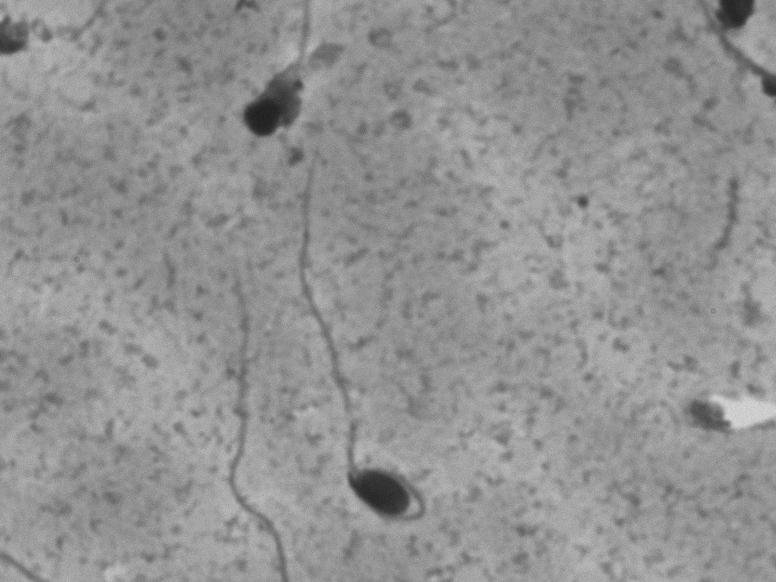Abnormal: (284, 152, 446, 550)
